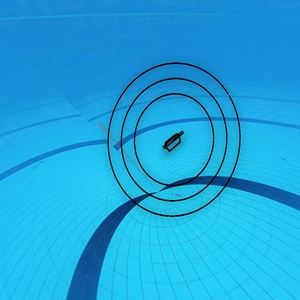circle: (101, 58, 246, 220)
submarine: (161, 128, 187, 152)
